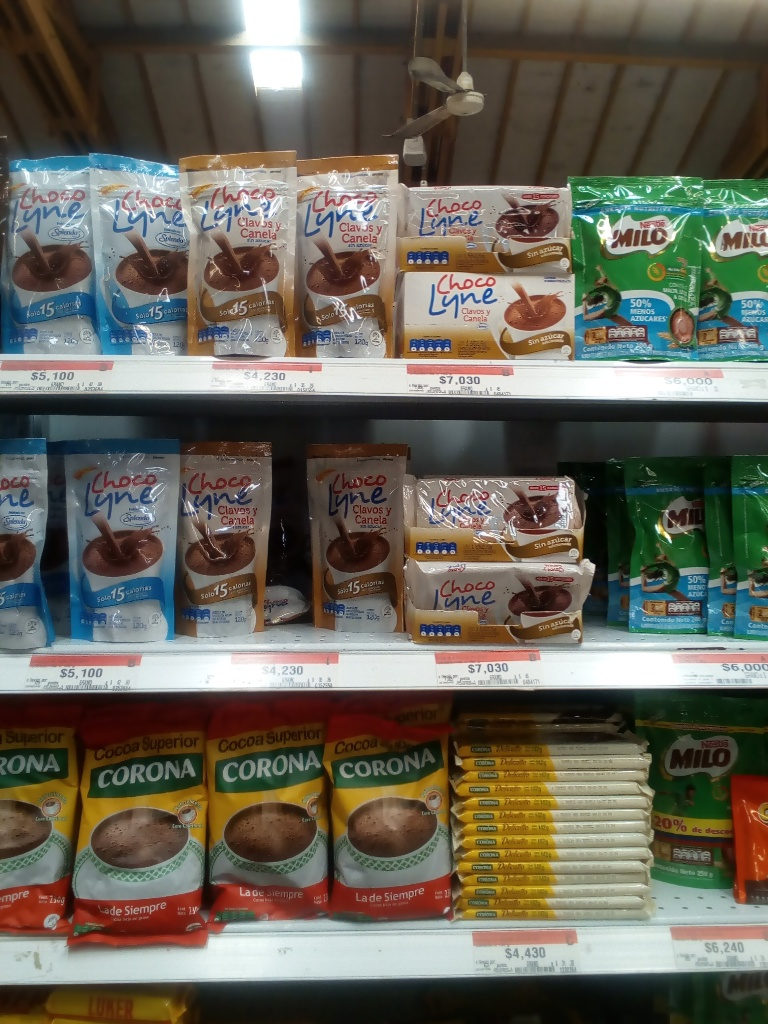COL0170203DYP25000: (633, 684, 768, 891)
COL0170205DYP20000: (577, 171, 712, 361)
